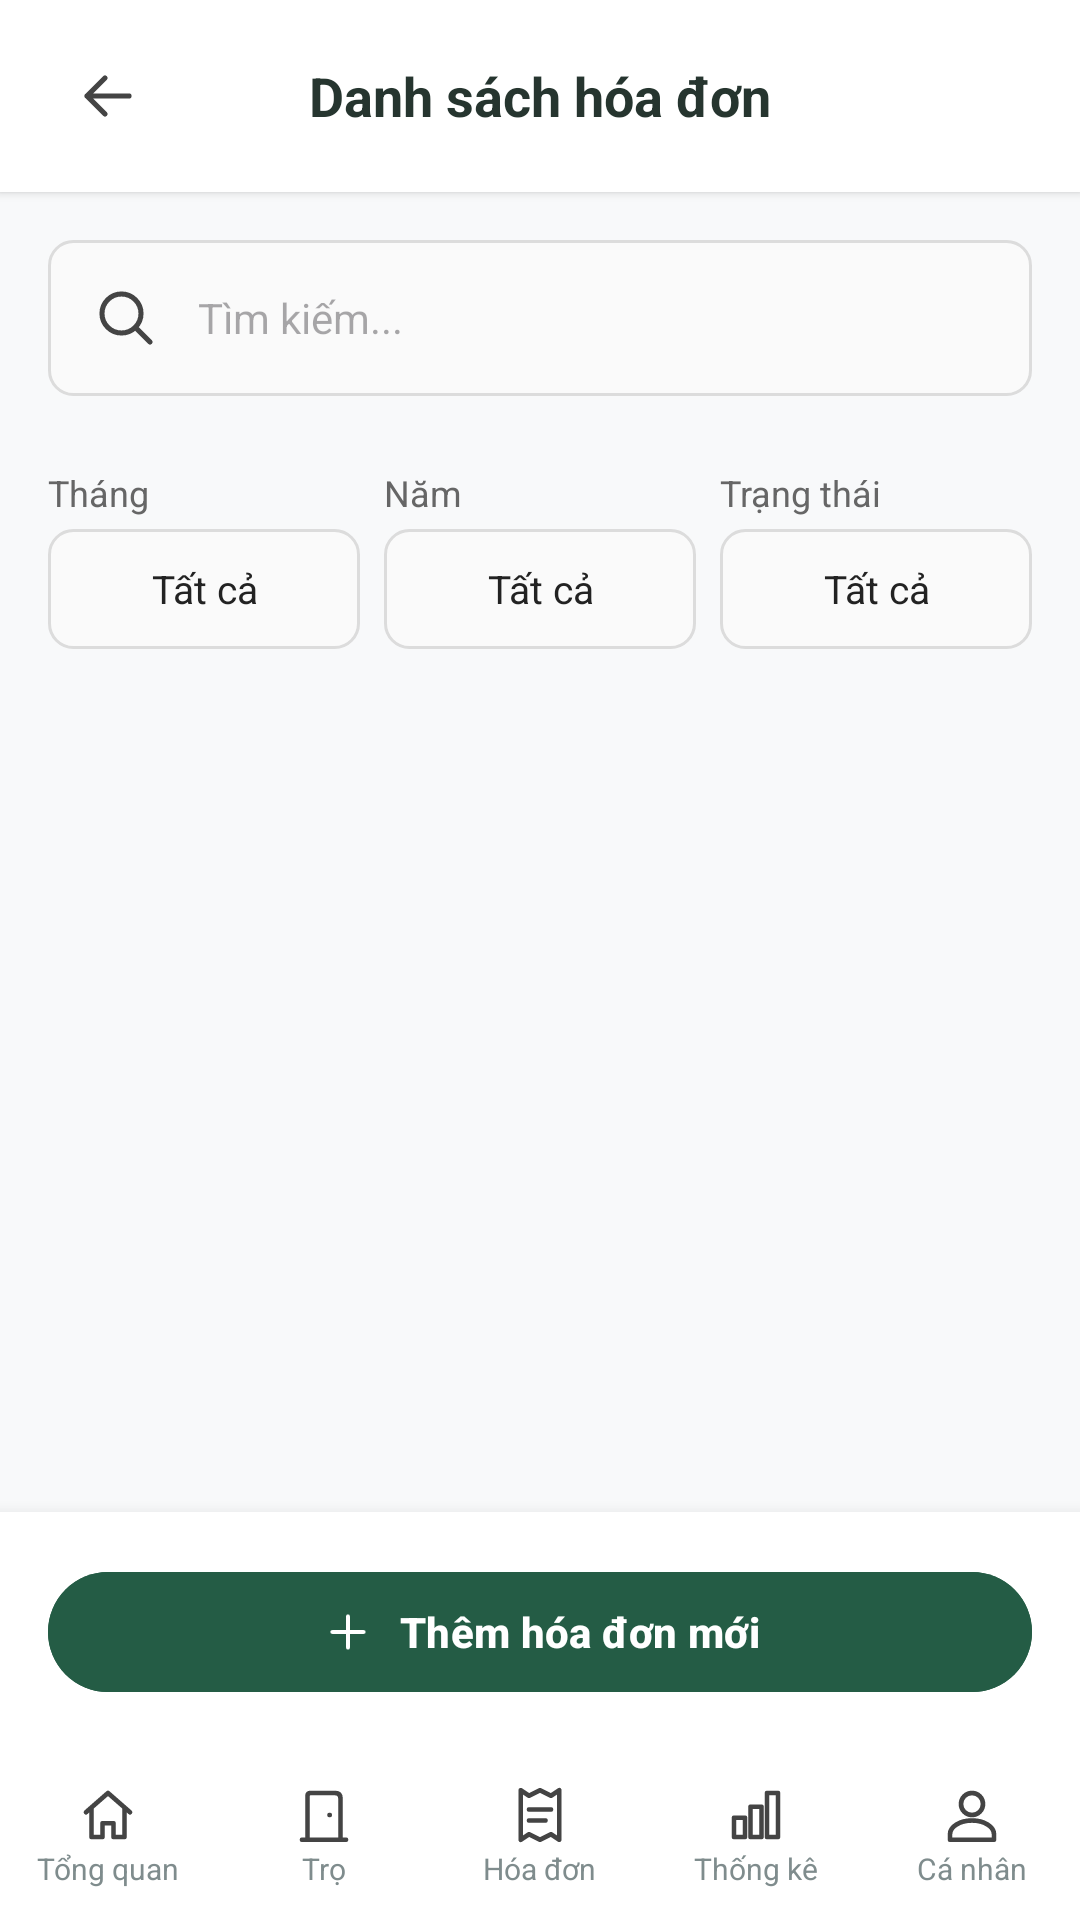

Where icons sit on this 1080 x 1920 app screen, as (x1, y1, x2, y2):
Quay lại: (84, 75, 132, 117)
